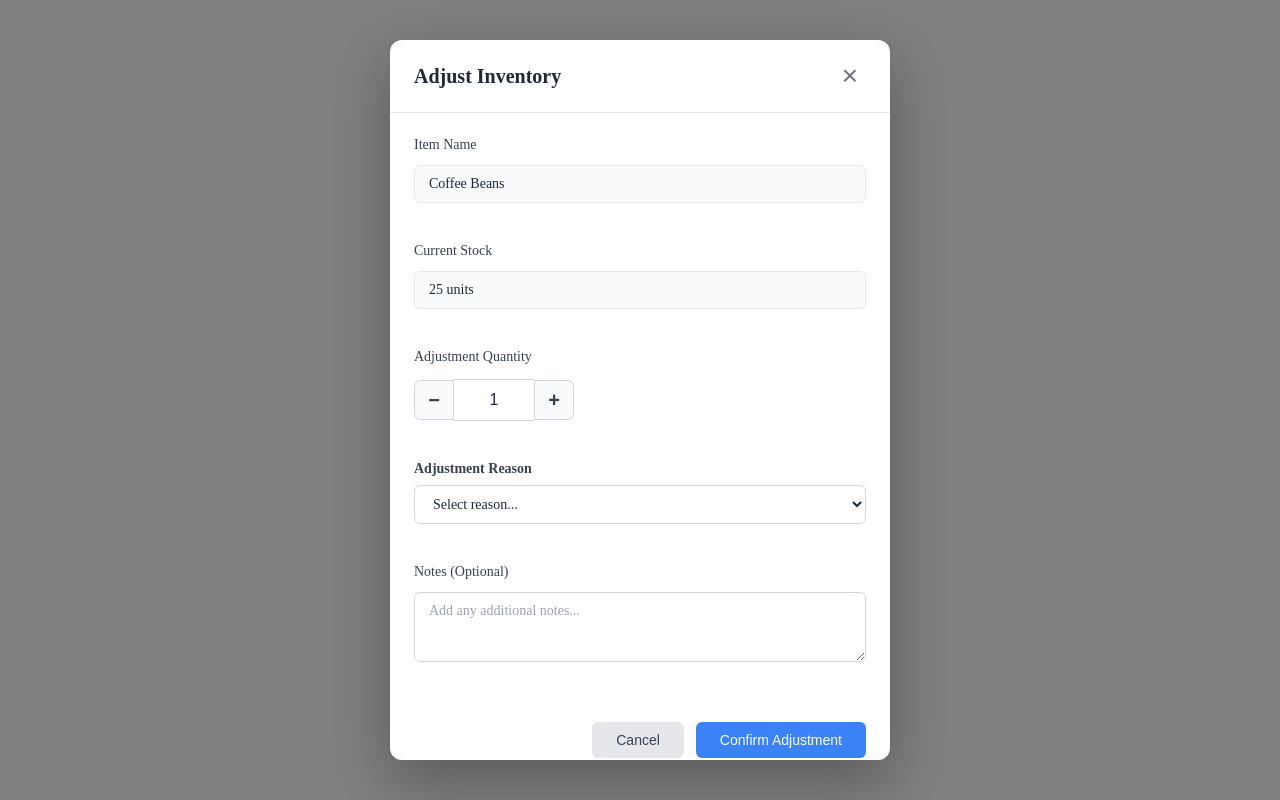
Test: InventoryAdjustmentForm Component › requires adjustment reason before submission
# Submit without selecting reason
Click the button with test id "form-submit-btn".
click(781, 740)  # box [696,722,866,758]
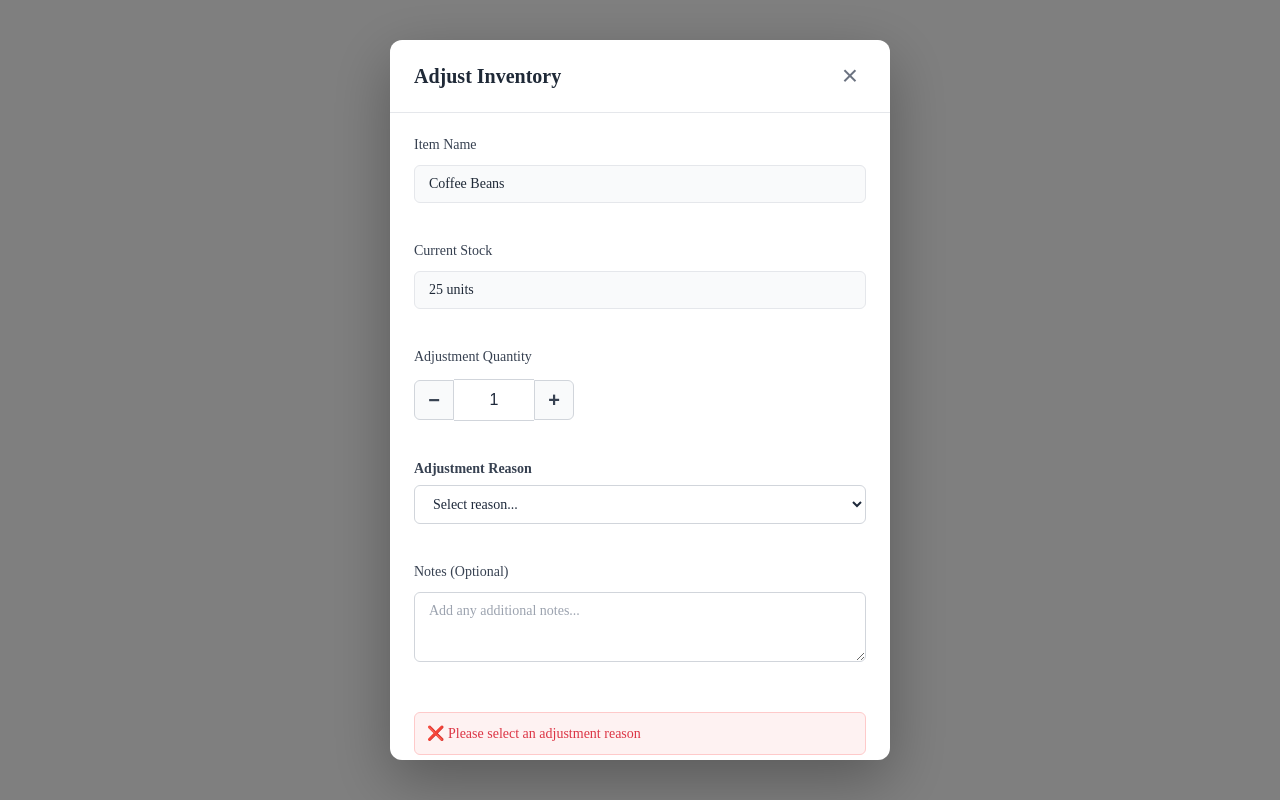
Now the text "❌ Please select an adjustment reason" is shown, box [414,712,866,755]
Now the text with test id "form-error" shows "Please select an adjustment reason", box [448,726,641,741]
